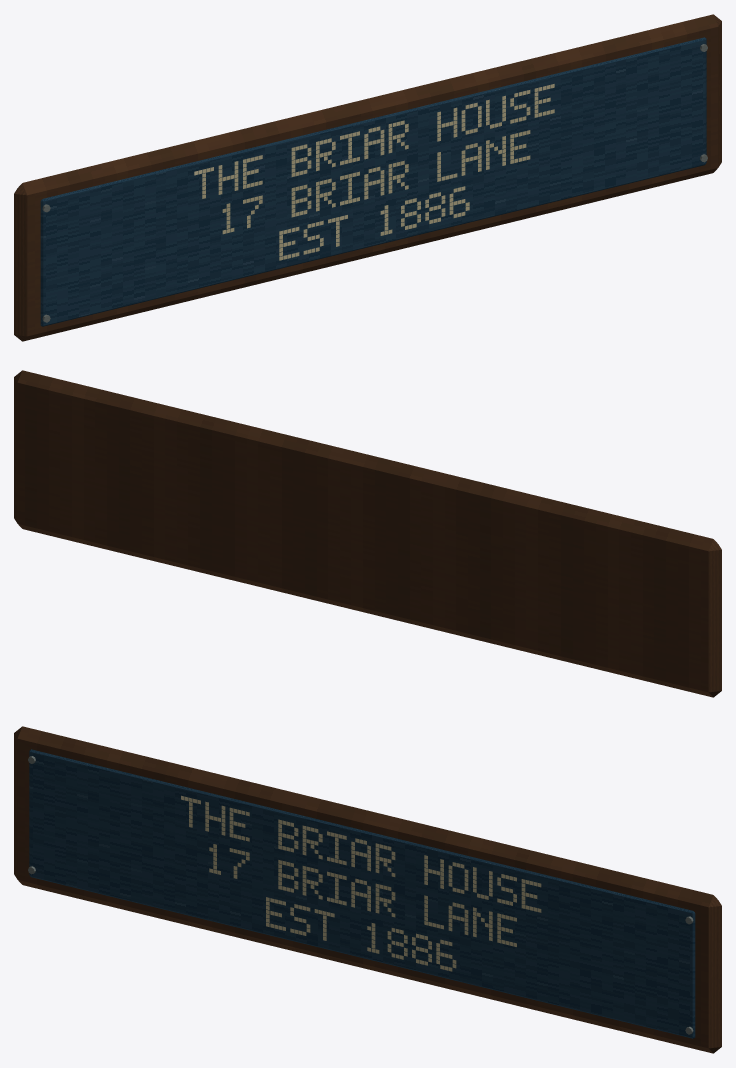
File: level_sign_house.glb
3 renders of one model, top to bottom at view 1: azimuth 30°, elevation 25°; view 2: azimuth 150°, elevation 25°; view 3: azimuth 330°, elevation 25°, orthographic.
Parts seen in each view (by area): view 1: level_sign_house; view 2: level_sign_house; view 3: level_sign_house.
Part boxes in pixels (x1,y1,x2,y2): level_sign_house: (14,14,721,341); level_sign_house: (14,370,721,697); level_sign_house: (14,726,721,1053).
Size of the model in its own units: 1.68 by 0.36 by 0.053.
Materials: 4 (4 with a texture image).
